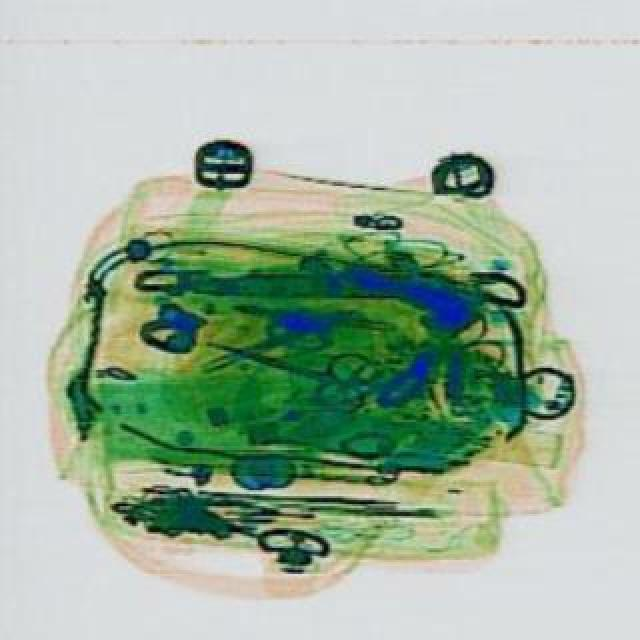pliers: (188, 306, 382, 418)
scissors: (130, 258, 526, 308)
